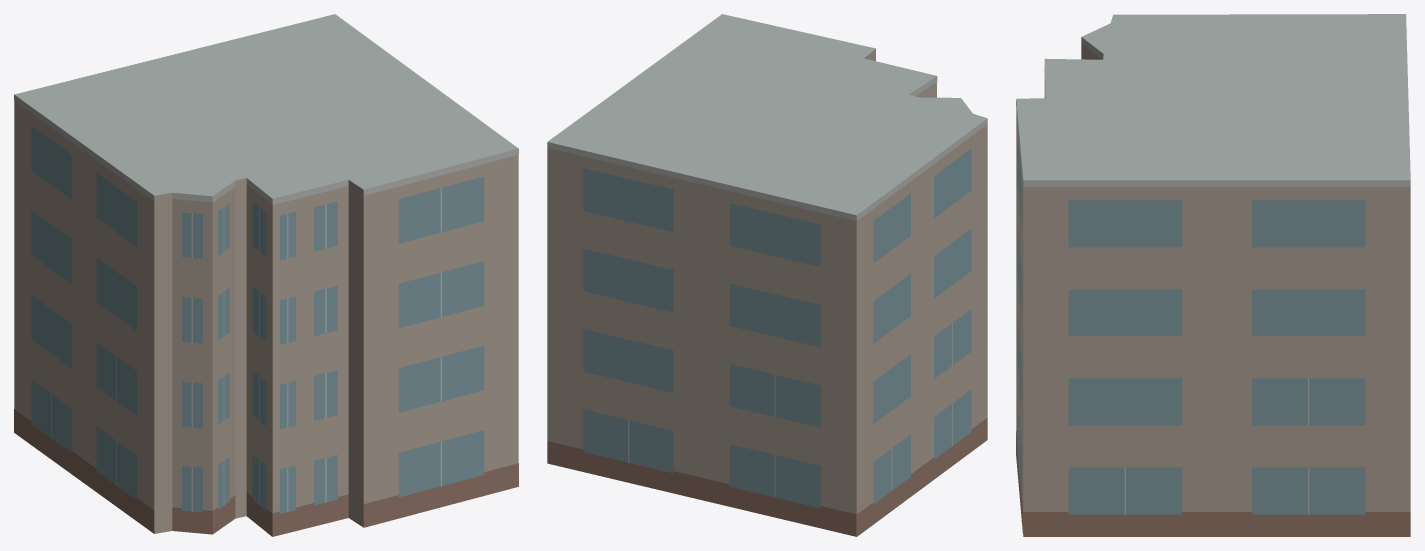
Rendered from survey-upis-32839434.glb.
The picture shows the model from 3 angles, left to right: view 1: azimuth 30°, elevation 25°; view 2: azimuth 150°, elevation 25°; view 3: azimuth 270°, elevation 25°; orthographic projection. The views are drawn at different scales.
Visible parts, largest first — view 1: survey-upis-32839434.tmp; view 2: survey-upis-32839434.tmp; view 3: survey-upis-32839434.tmp.
Boxes of the visible parts, bbox=[...] form: survey-upis-32839434.tmp: bbox=[14, 14, 518, 536]; survey-upis-32839434.tmp: bbox=[547, 14, 987, 536]; survey-upis-32839434.tmp: bbox=[1016, 14, 1410, 536].
Size of the model in its own units: 13.22 by 13.2 by 13.25.
